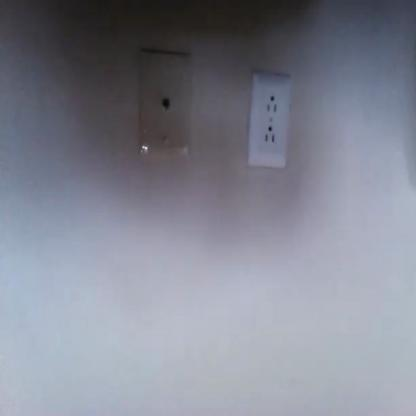OUTLET: (250, 74, 290, 167)
